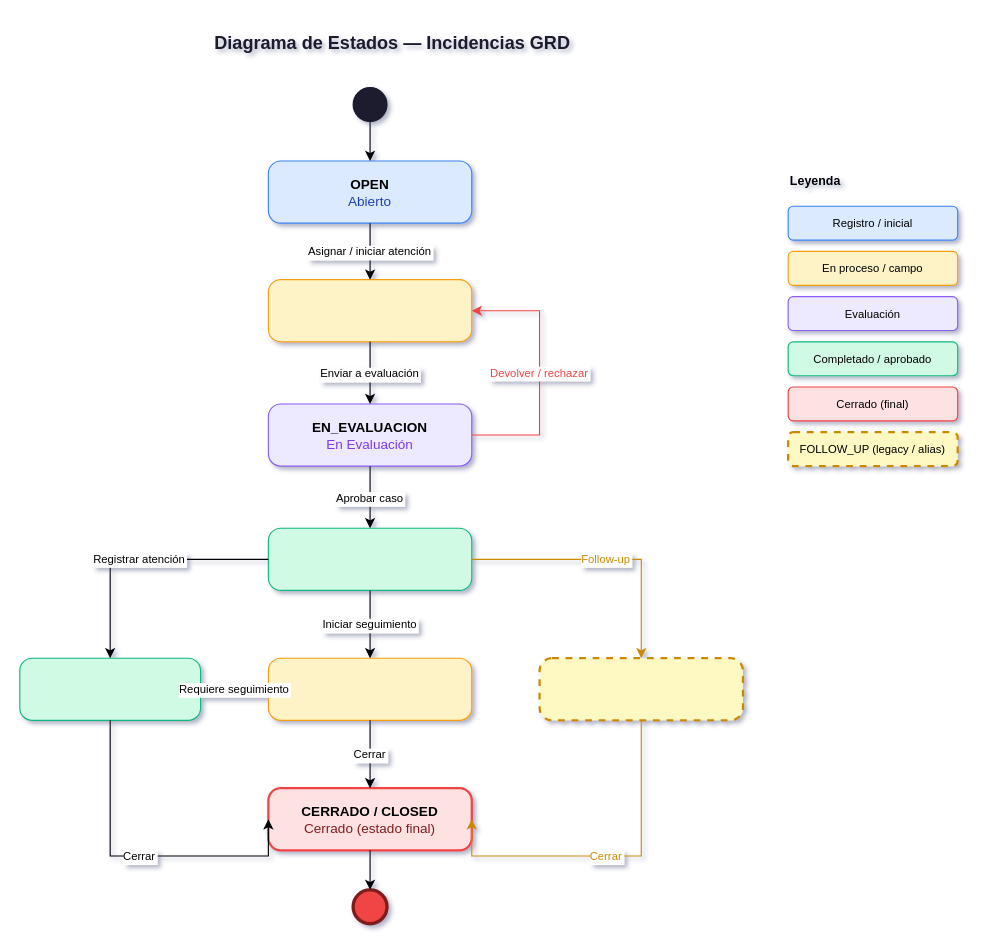
Some shapes in this 985 by 951 pixel diagram are drawn without their labels. Here are the shapes that lost their labels. From the top down, the centre of each, then its label:
point (369, 310): IN_PROGRESS En Atención
point (369, 558): APROBADO Aprobado
point (110, 688): ATENDIDO Atendido
point (369, 688): EN_SEGUIMIENTO En Seguimiento
point (641, 689): FOLLOW_UP Seguimiento (legacy)
